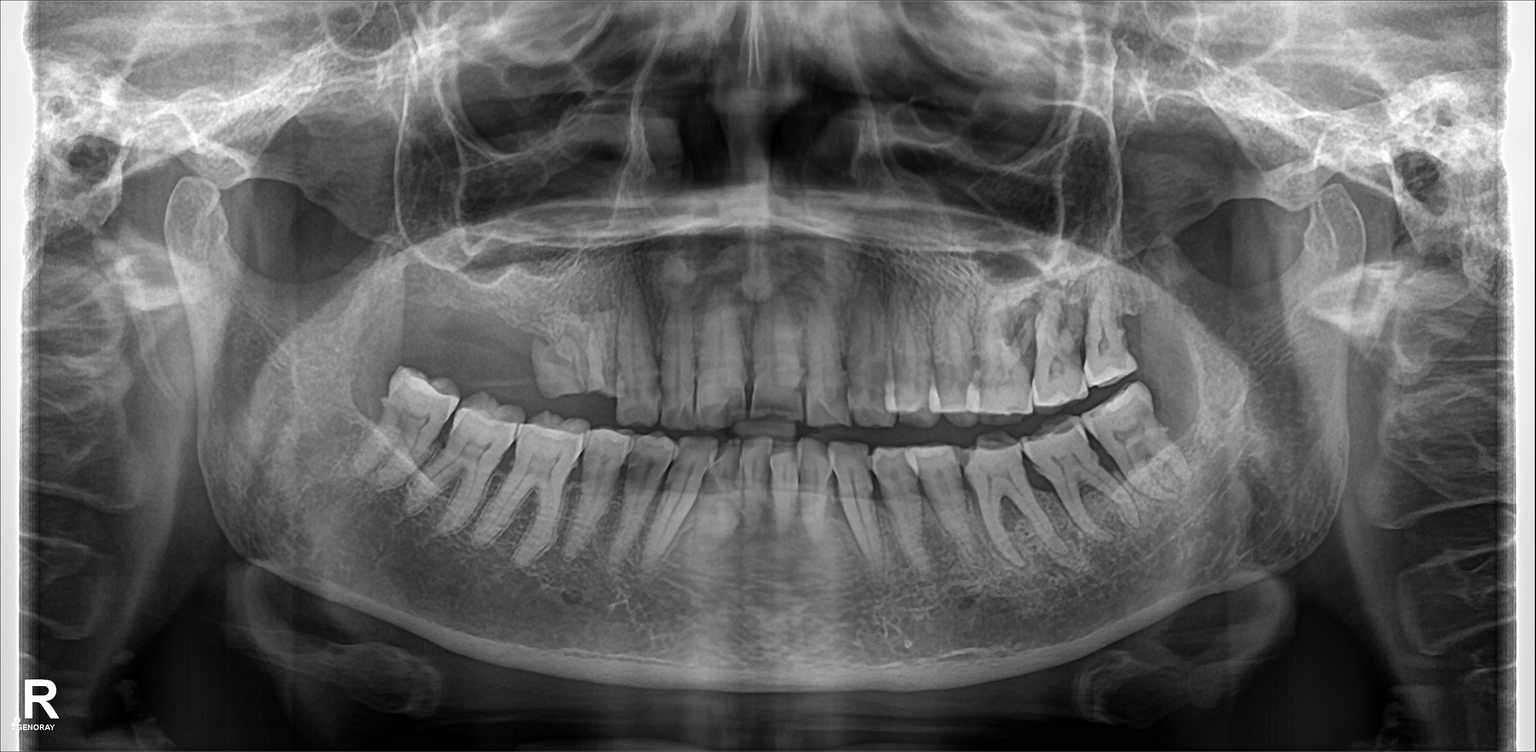Missing Tooth: (449, 262, 496, 383), (399, 262, 447, 374), (499, 266, 538, 380), (1132, 292, 1171, 368)
Tooth Fracture: (542, 372, 620, 410)
